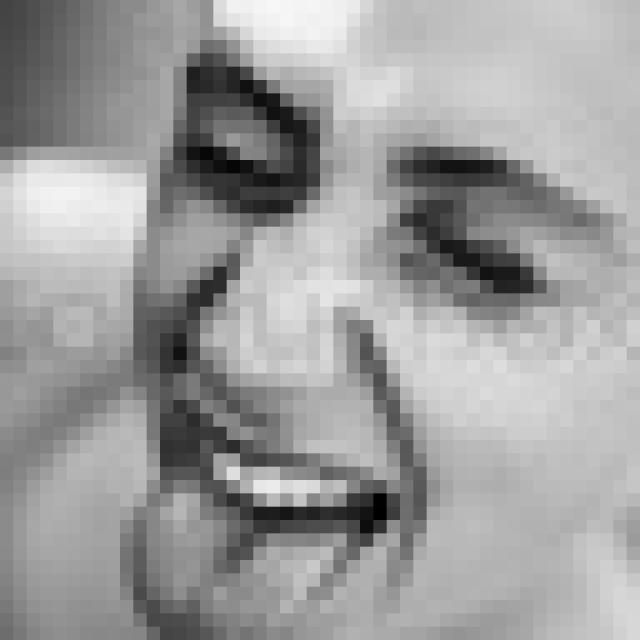disgust: (112, 49, 619, 640)
